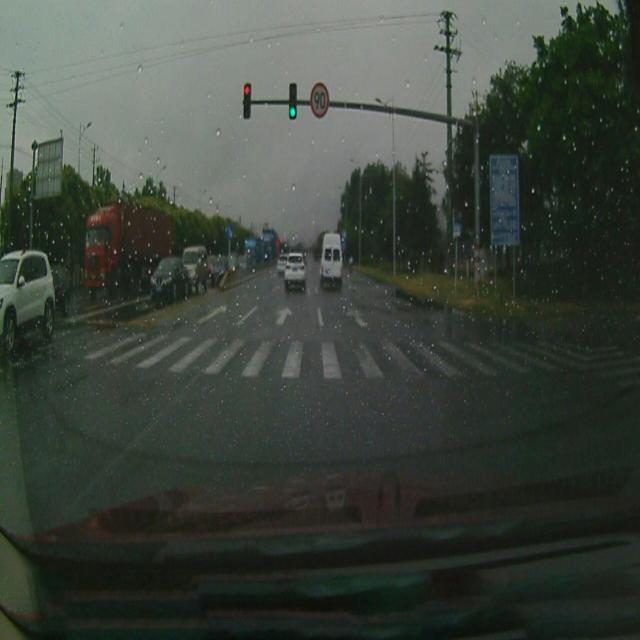car: (0, 228, 56, 354), (150, 250, 191, 306), (316, 225, 346, 291), (282, 246, 310, 294), (183, 245, 208, 292), (210, 244, 230, 284)
